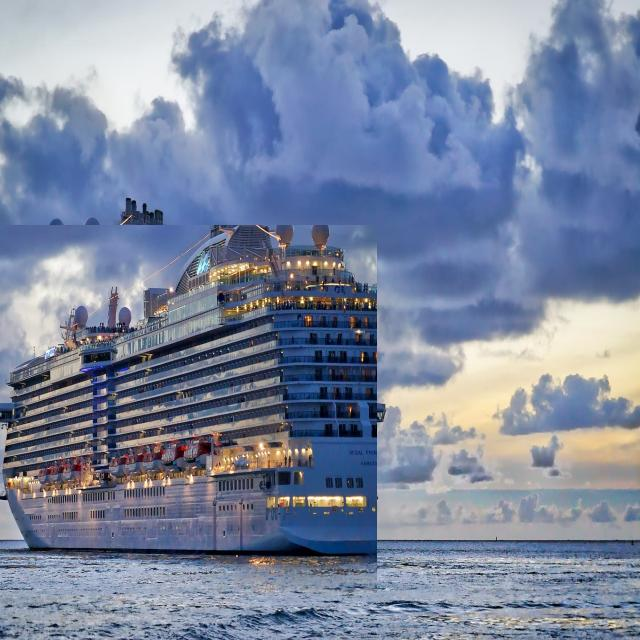PassengerShip: (0, 225, 377, 594)
